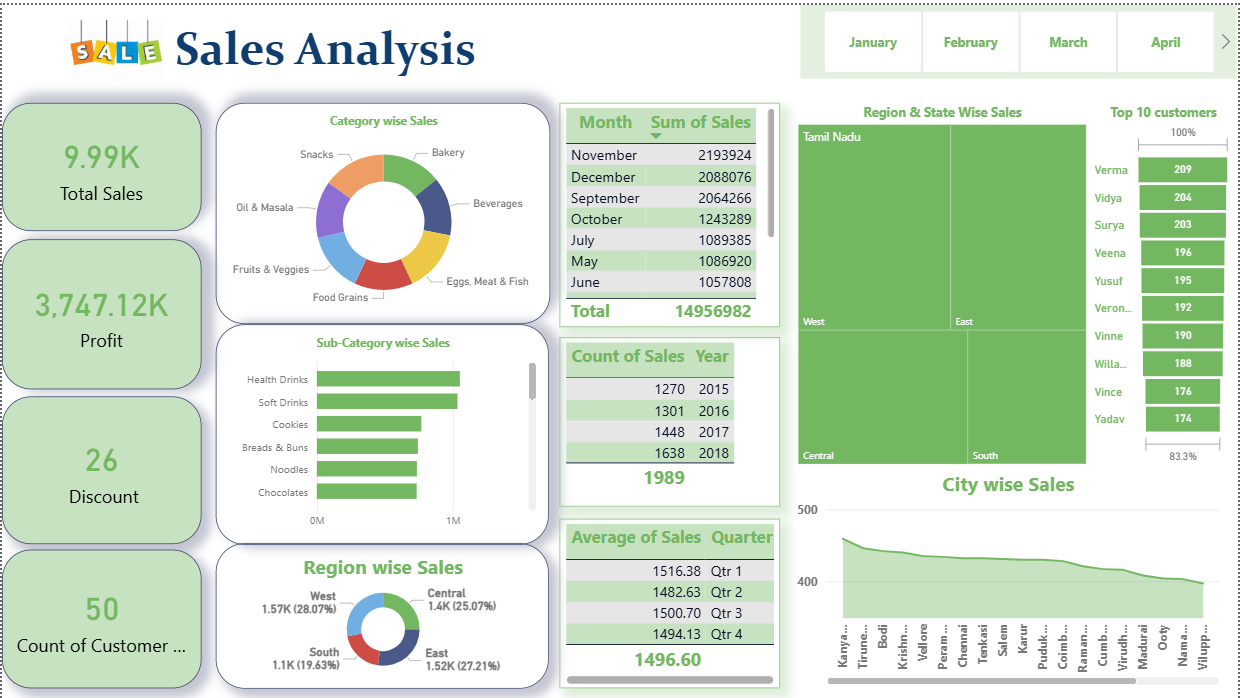

Layout of this report page (visuals, bound fields, positions):
{"tool":"powerbi","page":{"name":"Dashboard","canvas":[1280,720],"ordinal":0},"visuals":[{"type":"donutChart","title":"Category wise Sales","fields":{"Category":["Supermart Grocery Sales - Retail Analytics Dataset.Category"],"Y":["Supermart Grocery Sales - Retail Analytics Dataset.Sales"]},"box":[221.7,101.9,346.5,229.3],"z":0},{"type":"clusteredBarChart","title":"Sub-Category wise Sales","fields":{"Category":["Supermart Grocery Sales - Retail Analytics Dataset.Sub Category"],"Y":["Supermart Grocery Sales - Retail Analytics Dataset.Sales"]},"box":[221.7,331.2,345.2,228],"z":1000},{"type":"donutChart","title":"Region wise Sales","fields":{"Category":["Supermart Grocery Sales - Retail Analytics Dataset.Region"],"Y":["Supermart Grocery Sales - Retail Analytics Dataset.Sales"]},"box":[221.7,558,345.2,150.3],"z":2000},{"type":"areaChart","title":"City wise Sales","fields":{"Category":["Supermart Grocery Sales - Retail Analytics Dataset.City"],"Y":["Supermart Grocery Sales - Retail Analytics Dataset.Sales"]},"box":[819.1,481.5,447.1,228],"z":3000},{"type":"card","fields":{"Values":["Supermart Grocery Sales - Retail Analytics Dataset.Sales"]},"box":[0,101.9,206.4,132.5],"z":4000},{"type":"card","fields":{"Values":["Supermart Grocery Sales - Retail Analytics Dataset.Profit"]},"box":[0,243.3,206.4,155.4],"z":5000},{"type":"card","fields":{"Values":["Supermart Grocery Sales - Retail Analytics Dataset.Discount"]},"box":[0,405.1,206.4,152.9],"z":6000},{"type":"card","fields":{"Values":["Supermart Grocery Sales - Retail Analytics Dataset.Customer Name"]},"box":[0,564.3,206.4,144],"z":7000},{"type":"slicer","fields":{"Values":["Supermart Grocery Sales - Retail Analytics Dataset.Order Date.Variation.Date Hierarchy.Month"]},"box":[827.1,0,452.2,75.9],"z":8000},{"type":"tableEx","fields":{"Values":["Supermart Grocery Sales - Retail Analytics Dataset.Order Date.Variation.Date Hierarchy.Month","Supermart Grocery Sales - Retail Analytics Dataset.Sales"]},"box":[577.1,101.9,228,231.9],"z":9000},{"type":"tableEx","fields":{"Values":["Supermart Grocery Sales - Retail Analytics Dataset.Sales","Supermart Grocery Sales - Retail Analytics Dataset.Order Date.Variation.Date Hierarchy.Year"]},"box":[577.1,344,228,175.8],"z":10000},{"type":"tableEx","fields":{"Values":["Supermart Grocery Sales - Retail Analytics Dataset.Sales","Supermart Grocery Sales - Retail Analytics Dataset.Order Date.Variation.Date Hierarchy.Quarter"]},"box":[577.1,532.5,228,175.8],"z":11000},{"type":"treemap","title":"Region & State Wise Sales","fields":{"Group":["Supermart Grocery Sales - Retail Analytics Dataset.State"],"Details":["Supermart Grocery Sales - Retail Analytics Dataset.Region"],"Values":["Supermart Grocery Sales - Retail Analytics Dataset.Sales"]},"box":[819.5,101.7,308.1,379.4],"z":12000},{"type":"textbox","box":[28.8,10.6,611.6,80.4],"z":13000},{"type":"image","box":[28.8,10.6,177.6,77.4],"z":14000},{"type":"funnel","title":"Top 10 customers ","fields":{"Category":["Supermart Grocery Sales - Retail Analytics Dataset.Customer Name"],"Y":["Supermart Grocery Sales - Retail Analytics Dataset.Sales"]},"box":[1127.2,101.7,152.5,379.7],"z":15000}]}

Visuals, with their boxes in screenshot pixels (x1, y1, x2, y2), scaled from the page's 1280x720 canvas onto the 1240x698 screenshot:
"Category wise Sales" donutChart: BBox(215, 99, 550, 321)
"Sub-Category wise Sales" clusteredBarChart: BBox(215, 321, 549, 542)
"Region wise Sales" donutChart: BBox(215, 541, 549, 687)
"City wise Sales" areaChart: BBox(794, 467, 1227, 688)
card - Supermart Grocery Sales - Retail Analytics Dataset.Sales: BBox(0, 99, 200, 227)
card - Supermart Grocery Sales - Retail Analytics Dataset.Profit: BBox(0, 236, 200, 387)
card - Supermart Grocery Sales - Retail Analytics Dataset.Discount: BBox(0, 393, 200, 541)
card - Supermart Grocery Sales - Retail Analytics Dataset.Customer Name: BBox(0, 547, 200, 687)
slicer - Supermart Grocery Sales - Retail Analytics Dataset.Order Date.Variation.Date Hierarchy.Month: BBox(801, 0, 1239, 74)
tableEx - Supermart Grocery Sales - Retail Analytics Dataset.Order Date.Variation.Date Hierarchy.Month x Supermart Grocery Sales - Retail Analytics Dataset.Sales: BBox(559, 99, 780, 324)
tableEx - Supermart Grocery Sales - Retail Analytics Dataset.Sales x Supermart Grocery Sales - Retail Analytics Dataset.Order Date.Variation.Date Hierarchy.Year: BBox(559, 333, 780, 504)
tableEx - Supermart Grocery Sales - Retail Analytics Dataset.Sales x Supermart Grocery Sales - Retail Analytics Dataset.Order Date.Variation.Date Hierarchy.Quarter: BBox(559, 516, 780, 687)
"Region & State Wise Sales" treemap: BBox(794, 99, 1092, 466)
textbox: BBox(28, 10, 620, 88)
image: BBox(28, 10, 200, 85)
"Top 10 customers " funnel: BBox(1092, 99, 1239, 467)
